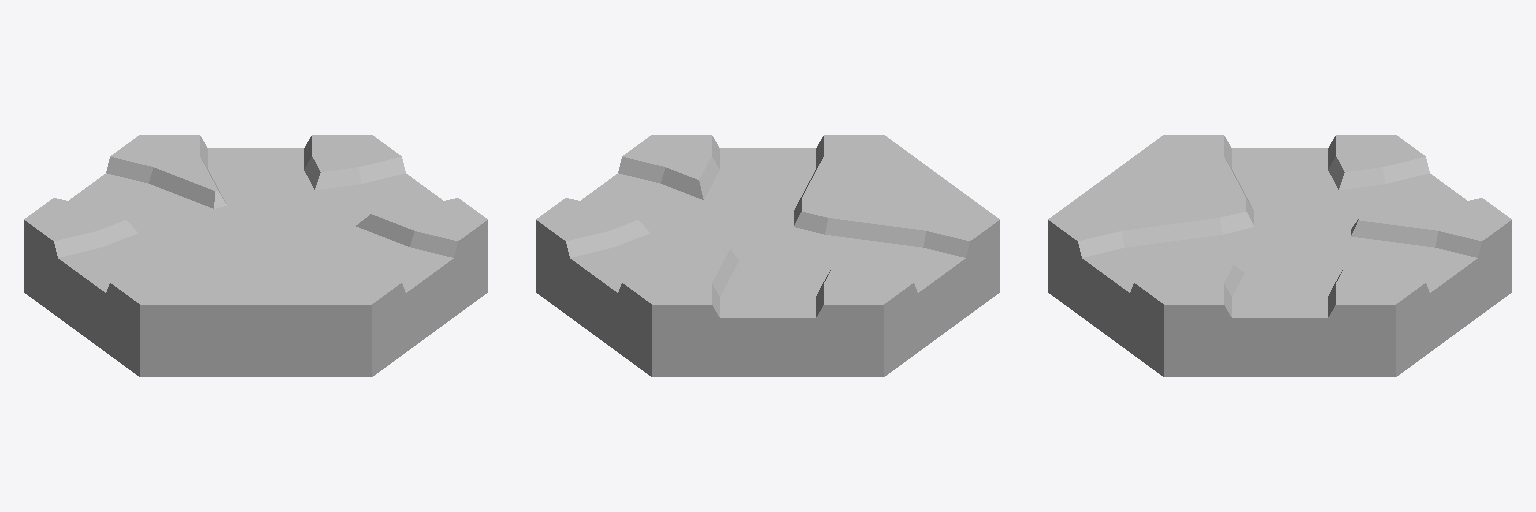
File: river_intersectionG.obj
3 renders of one model, left to right at view 1: azimuth 30°, elevation 25°; view 2: azimuth 150°, elevation 25°; view 3: azimuth 270°, elevation 25°, orthographic.
Parts seen in each view (by area): view 1: river_intersectionG; view 2: river_intersectionG; view 3: river_intersectionG.
Boxes of the visible parts, box(x1,y1,x2,y2) form: river_intersectionG: box(24, 135, 487, 376); river_intersectionG: box(536, 135, 999, 376); river_intersectionG: box(1048, 135, 1511, 376).
Bounding box in the file's own units: 1 × 0.2 × 1.15.